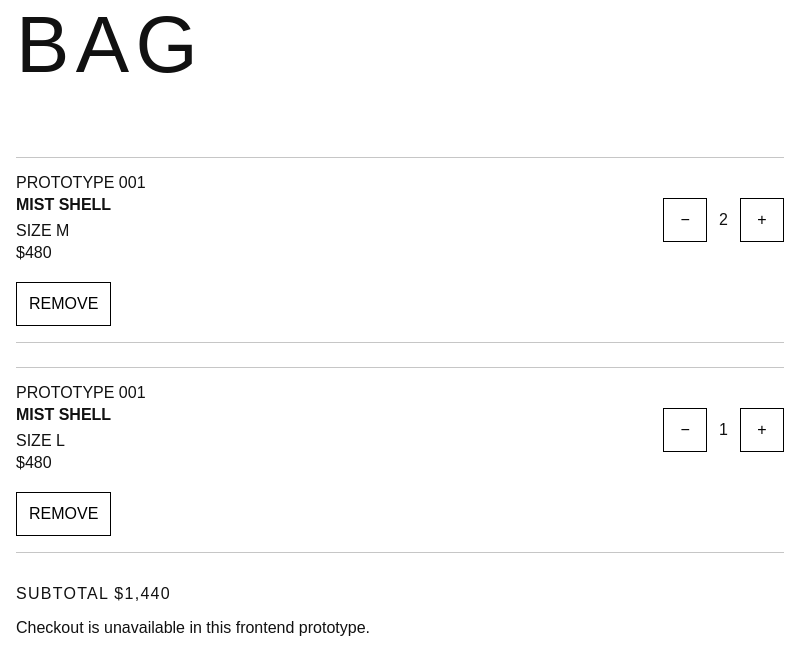
Test: BagPage › updates quantities, removes lines, and calculates the subtotal from known Objects
Expected: the text "SUBTOTAL $1,440" is shown, [16,585,171,602]
Click the button named "Increase Mist Shell, size M quantity".
click(762, 220)  # box [740,198,784,242]
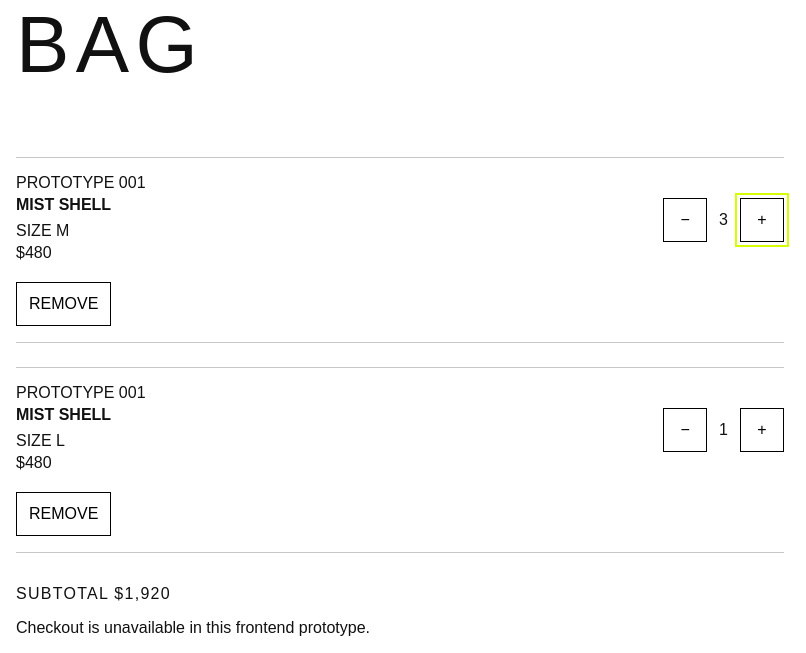
Expected: the text "SUBTOTAL $1,920" is shown, [16,585,171,602]
Click the button with aria-label "Remove Mist Shell, size L".
click(64, 514)  # box [16,492,111,536]
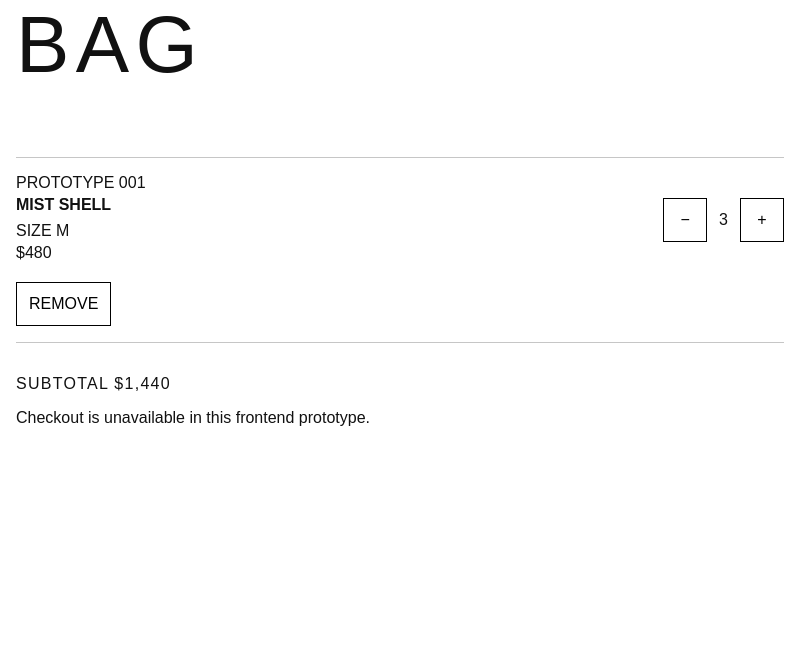
Expected: the text "SUBTOTAL $1,440" is shown, [16,375,171,392]
